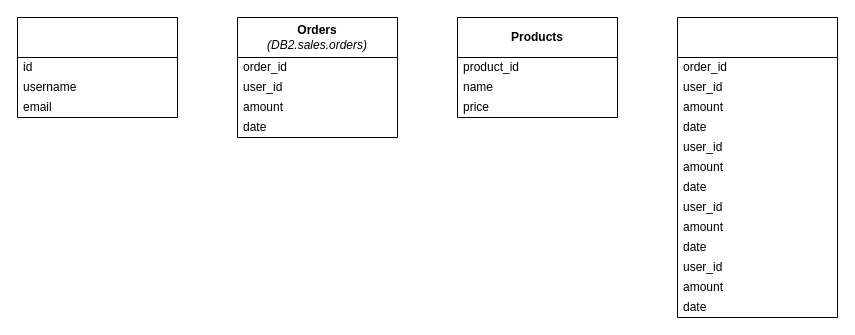
The diagram is 855 pixels wide and 335 high, and some of its shapes have lost their labels. Each missing label, with the box of its shape:
Orders11111 (DB2.sales.orders): (676, 16, 838, 318)
Users (DB1.dbo.user): (16, 16, 178, 118)
